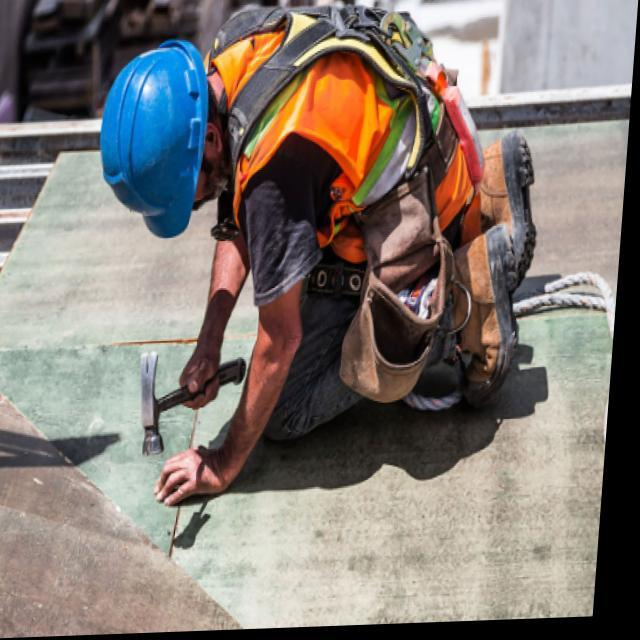boots: (446, 103, 548, 412)
helmet: (87, 27, 230, 250)
vest: (185, 0, 495, 290)
